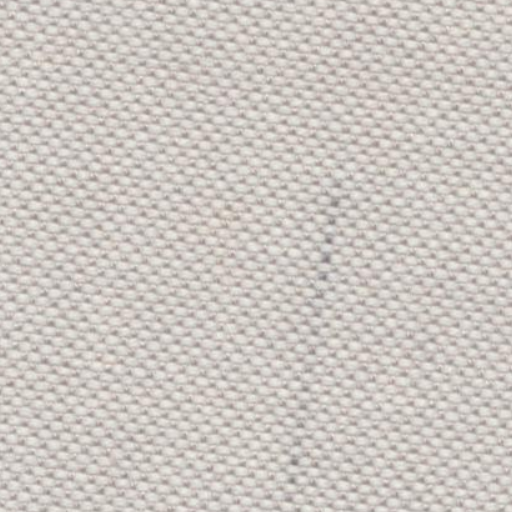WuZi: (276, 170, 350, 502)
